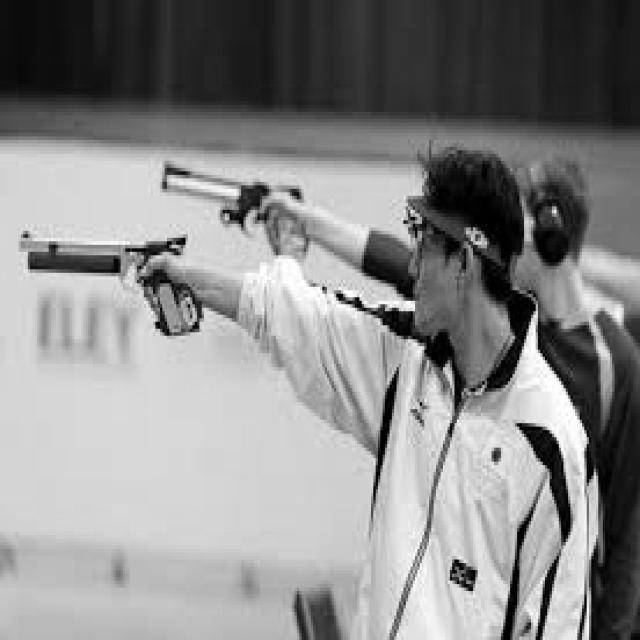gun: (18, 231, 206, 333), (157, 160, 310, 276)
